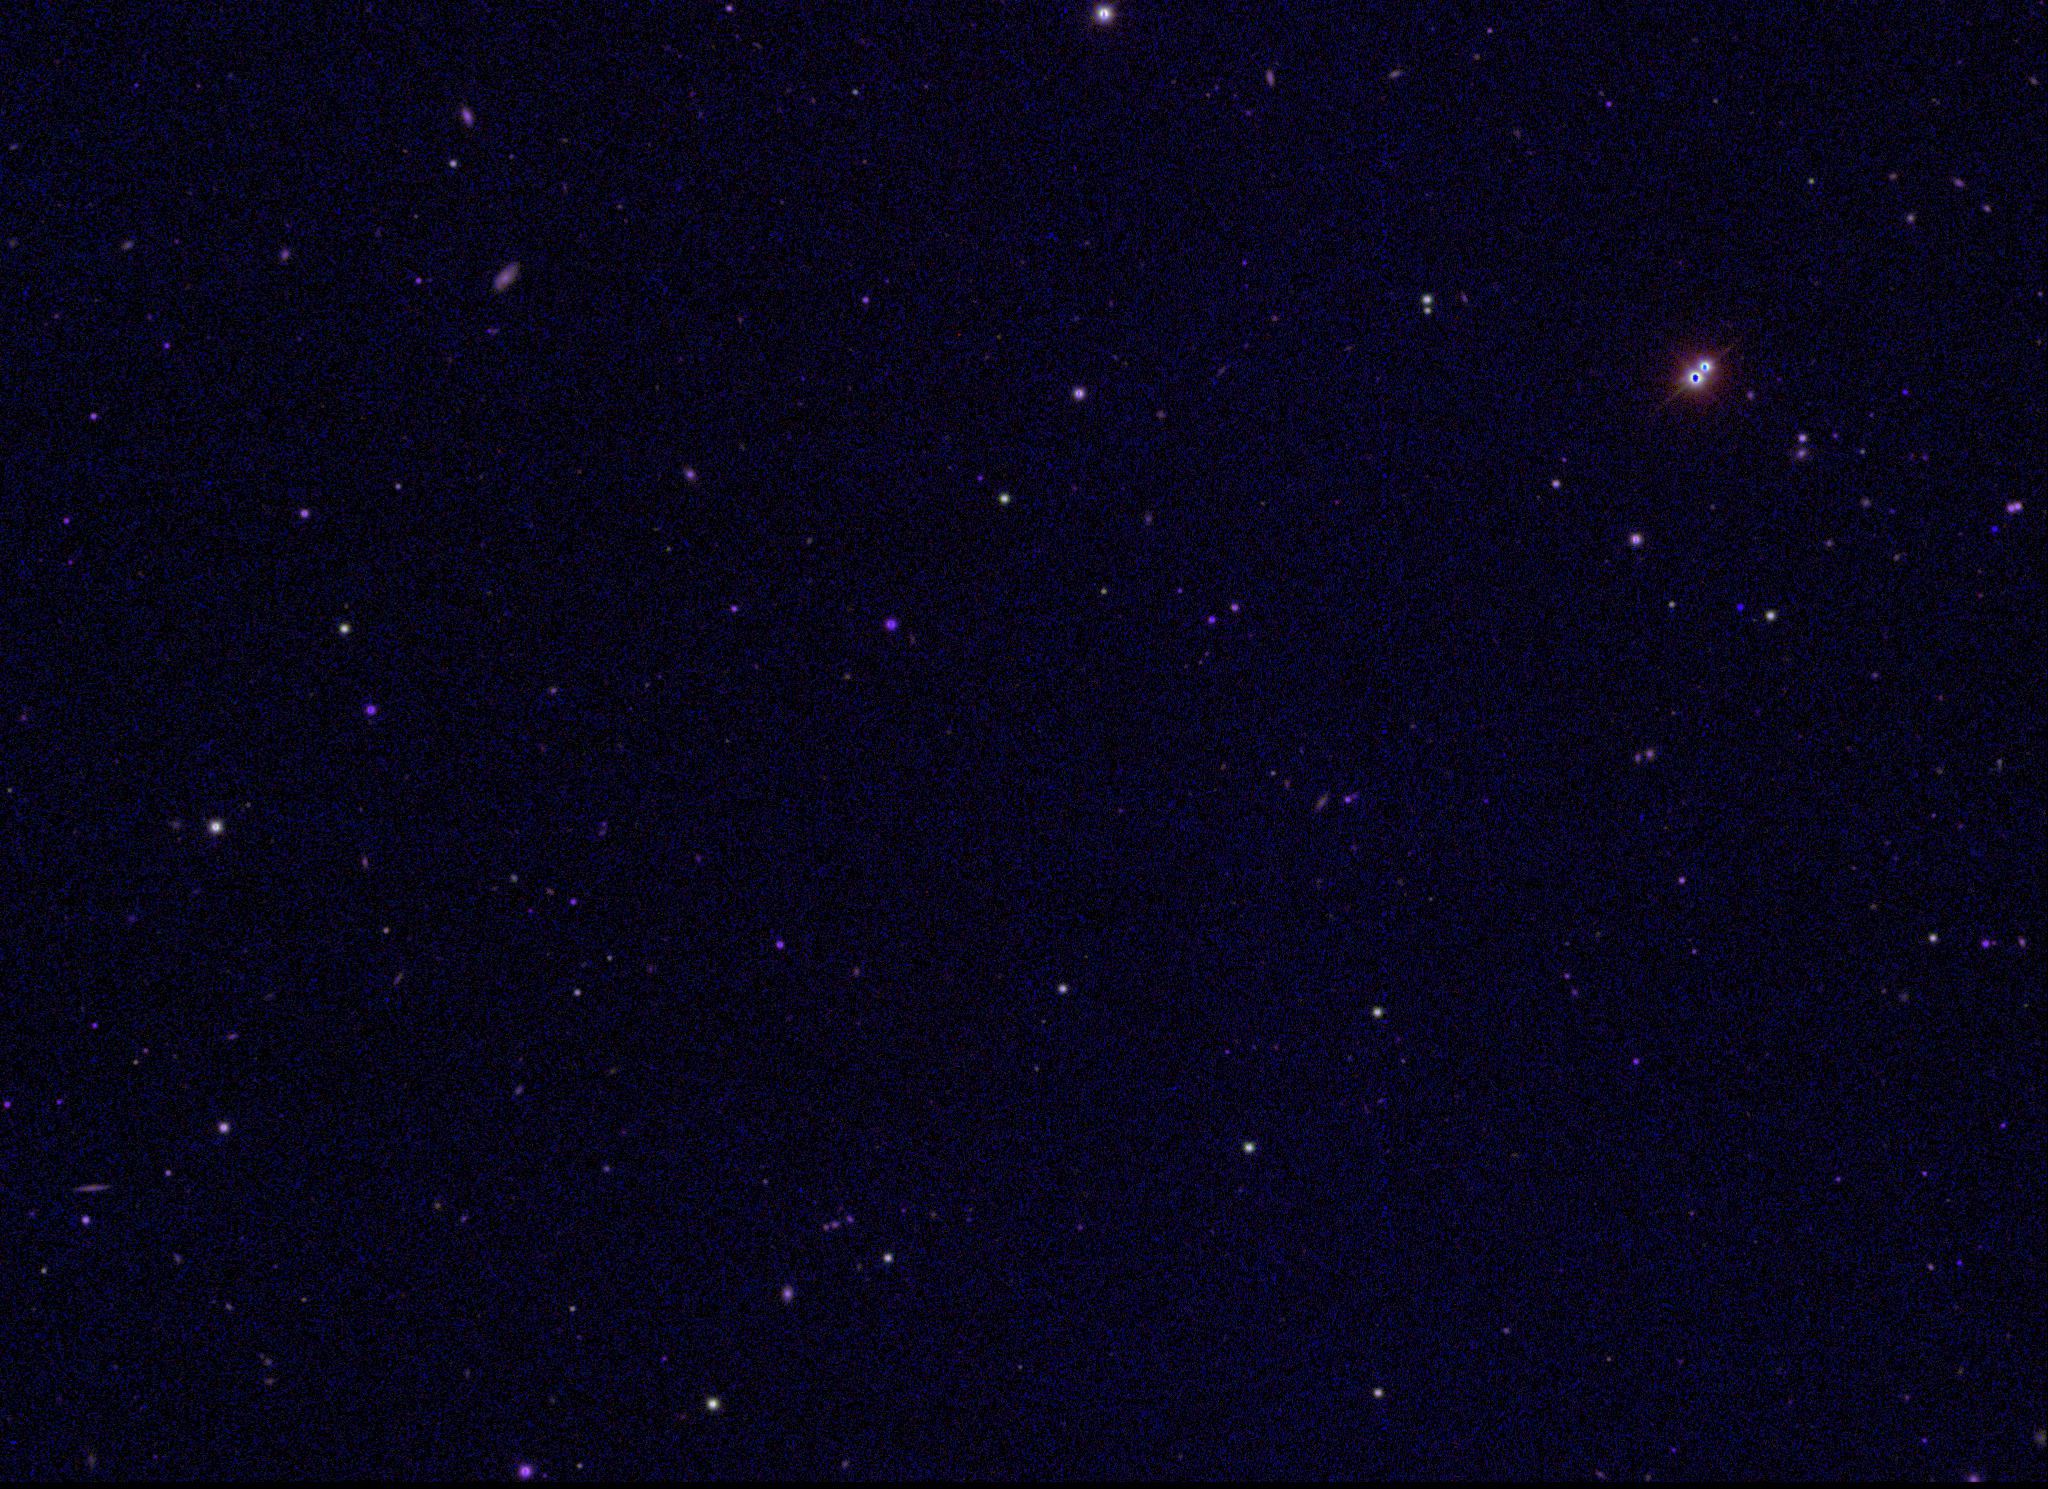L: (1735, 600, 1747, 612)
